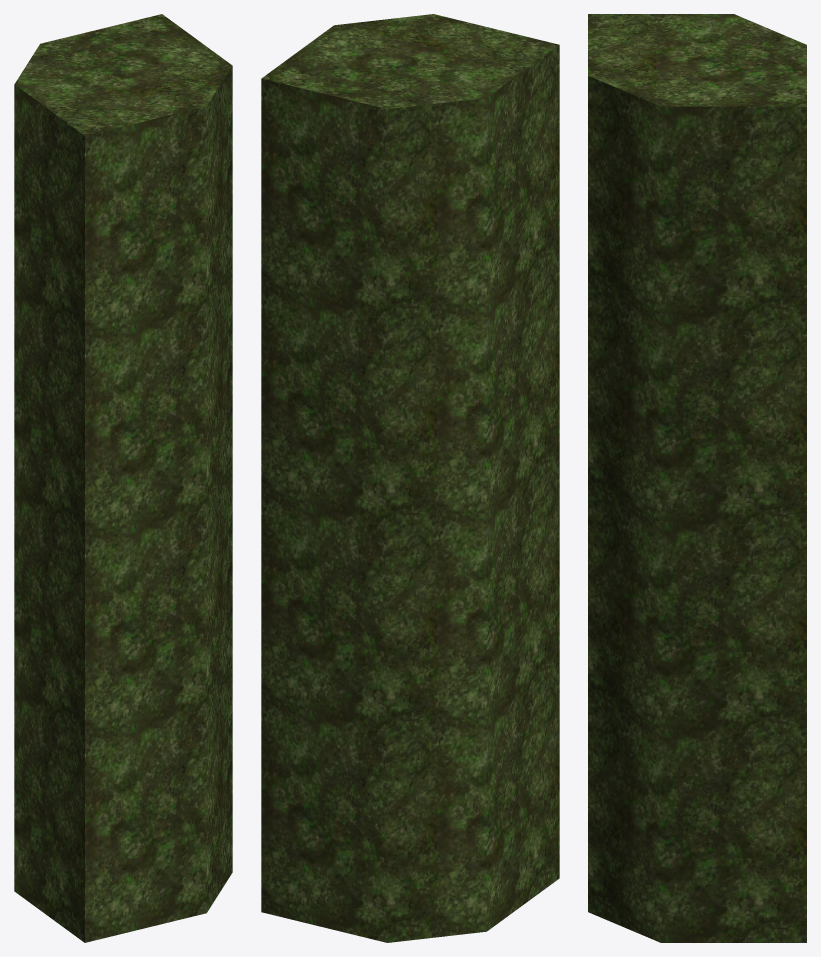
Rendered from OVERHILL_A_01_LINE397.fbx.
3 renders of one model, left to right at view 1: azimuth 30°, elevation 25°; view 2: azimuth 150°, elevation 25°; view 3: azimuth 270°, elevation 25°, orthographic. The views are drawn at different scales.
Parts seen in each view (by area): view 1: OVERHILL_A_01_LINE397; view 2: OVERHILL_A_01_LINE397; view 3: OVERHILL_A_01_LINE397.
Boxes of the visible parts, x1,y1,x2,y2 form: OVERHILL_A_01_LINE397: (14,14,232,942); OVERHILL_A_01_LINE397: (261,14,559,942); OVERHILL_A_01_LINE397: (588,14,806,942).
Bounding box in the file's own units: 30000 × 126458 × 30000.
Materials: 1 (1 with a texture image).
